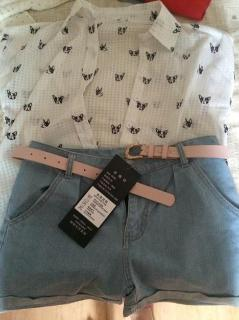short sleeve outwear: (0, 0, 236, 234)
shorts: (0, 135, 239, 317)
